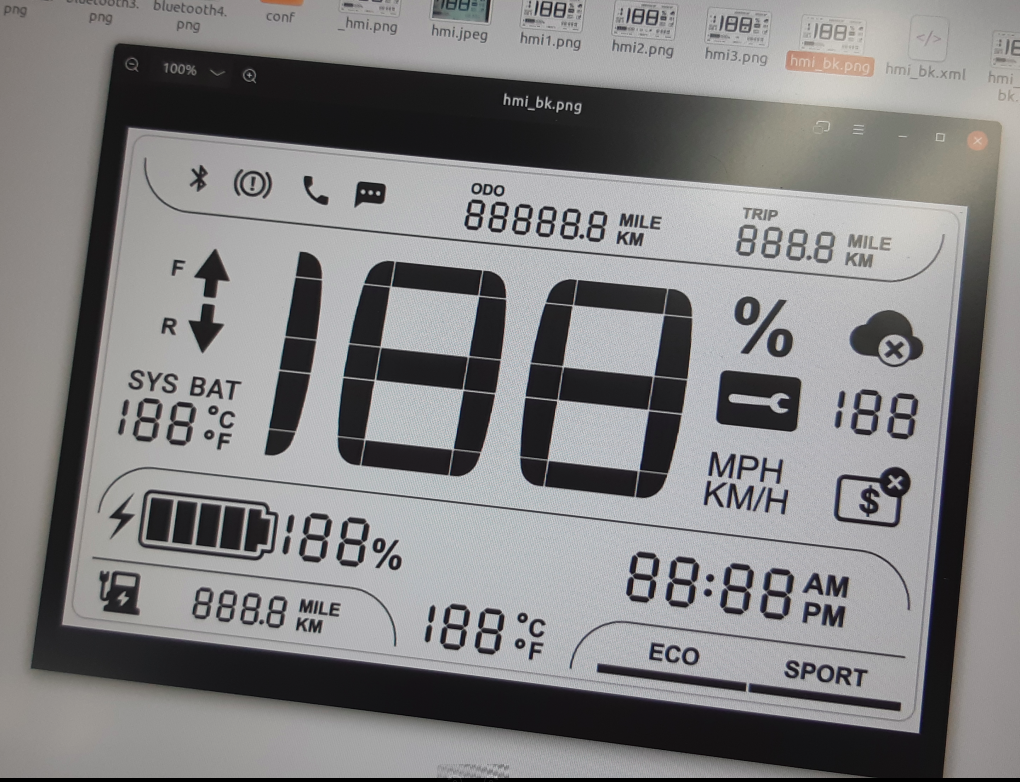bluetooth_on: (182, 160, 214, 192)
braking_on: (231, 164, 277, 210)
calling_on: (295, 169, 335, 209)
connection_lost: (843, 298, 926, 381)
error_code: (713, 358, 803, 448)
low_battery: (89, 562, 148, 621)
sms_on: (347, 176, 389, 218)
vin_id: (831, 454, 913, 536)
